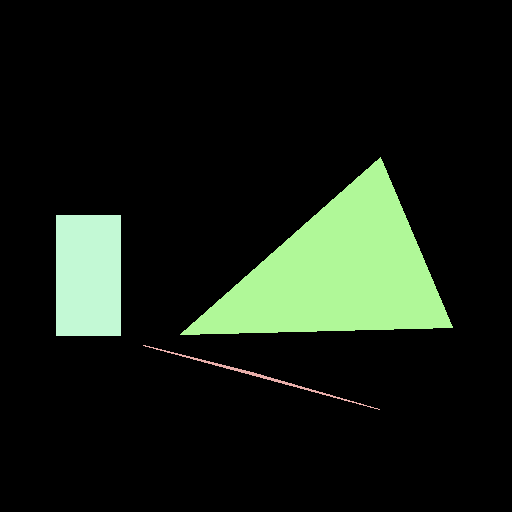rectangle: (56, 215, 120, 335)
triangle: (180, 157, 452, 334)
